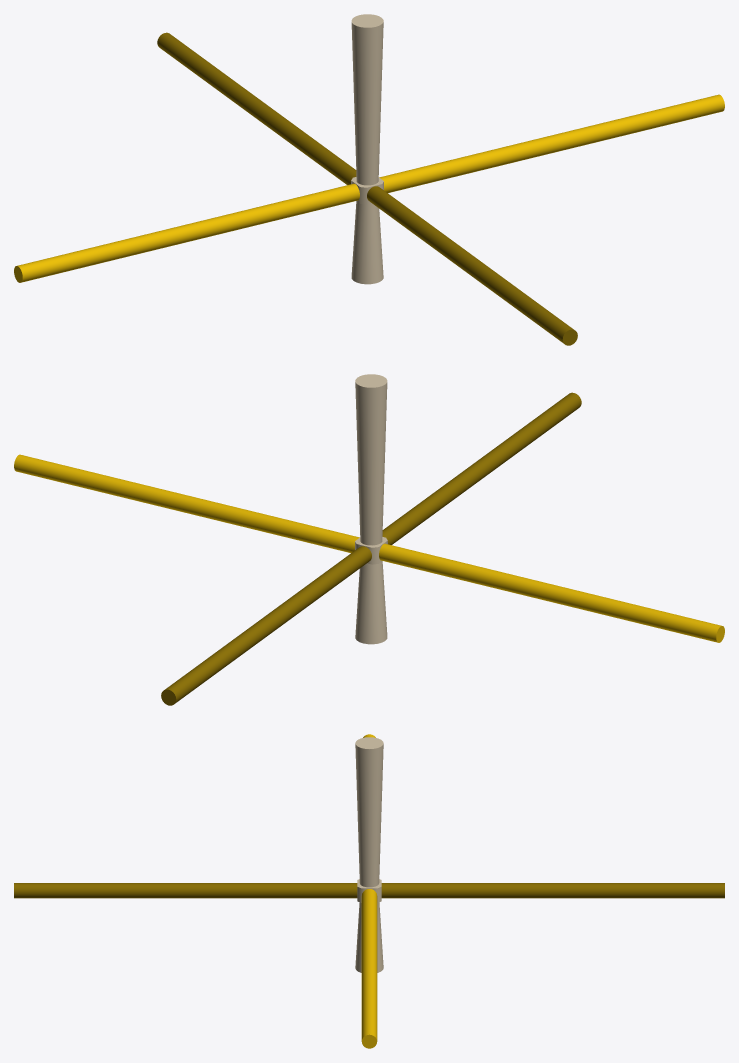
The model's file is Obstaculo de salto.fbx.
The picture shows the model from 3 angles, top to bottom: view 1: azimuth 30°, elevation 25°; view 2: azimuth 150°, elevation 25°; view 3: azimuth 270°, elevation 25°; orthographic projection. The views are drawn at different scales.
Parts seen in each view (by area): view 1: pCylinder4, pasted__pCylinder4, pCylinder3; view 2: pCylinder4, pasted__pCylinder4, pCylinder3; view 3: pasted__pCylinder4, pCylinder3, pCylinder4.
Boxes of the visible parts, box(x1,y1,x2,y2) form: pCylinder4: box(14, 94, 724, 282); pasted__pCylinder4: box(157, 32, 577, 345); pCylinder3: box(351, 14, 383, 284); pCylinder4: box(14, 454, 724, 642); pasted__pCylinder4: box(161, 392, 581, 705); pCylinder3: box(355, 374, 387, 644); pasted__pCylinder4: box(14, 883, 724, 898); pCylinder3: box(355, 737, 383, 972); pCylinder4: box(361, 734, 377, 1048).
Size of the model in its own units: 9.93 by 3.47 by 9.93.
